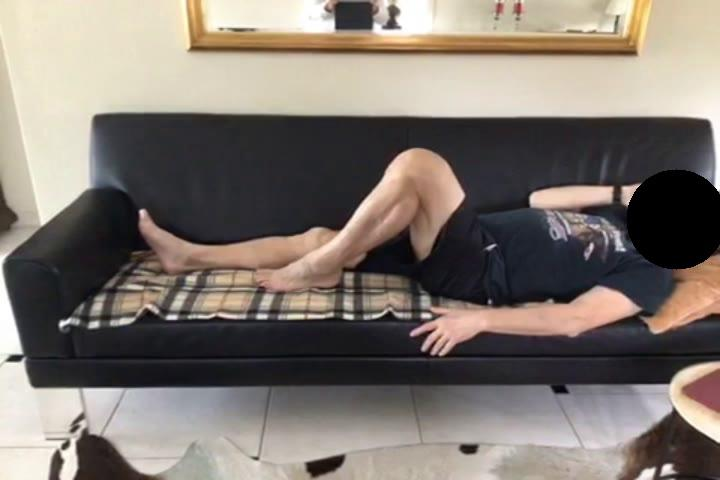lower_body: (138, 145, 502, 304)
